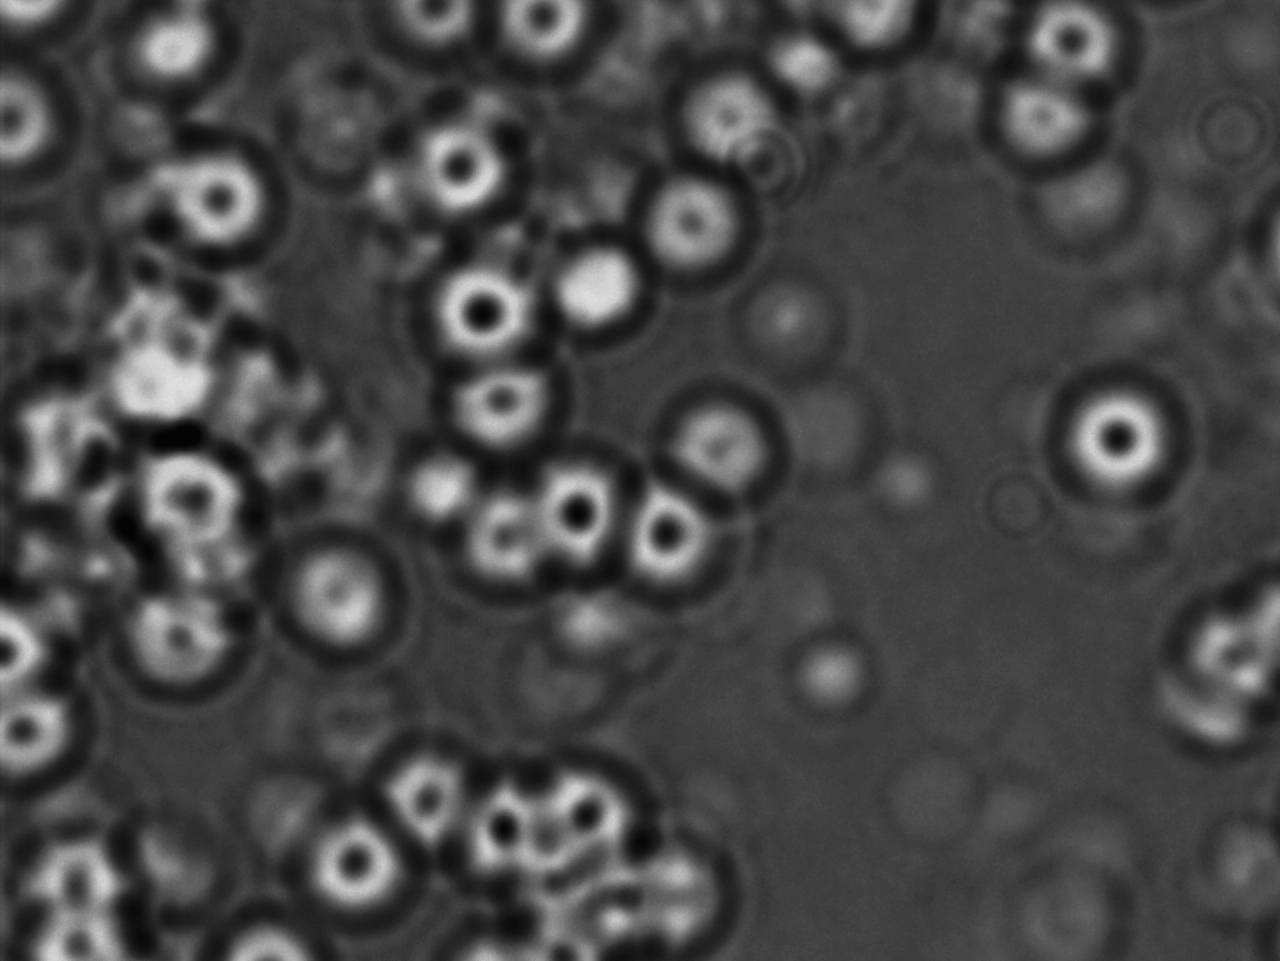depth:32: (1045, 371, 1185, 508), (417, 233, 547, 371), (285, 793, 421, 923), (605, 475, 738, 603), (396, 101, 527, 229), (158, 136, 287, 262), (511, 442, 635, 571), (367, 722, 486, 849), (533, 748, 651, 872), (445, 770, 560, 879)
